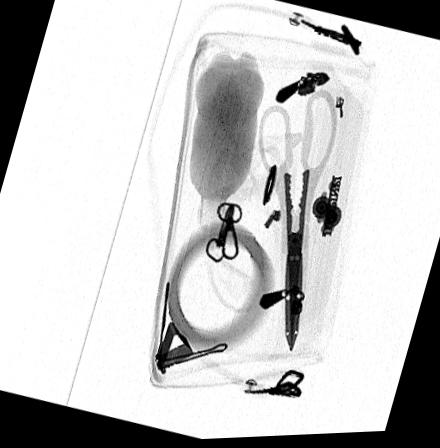Scissors: (258, 89, 338, 355)
